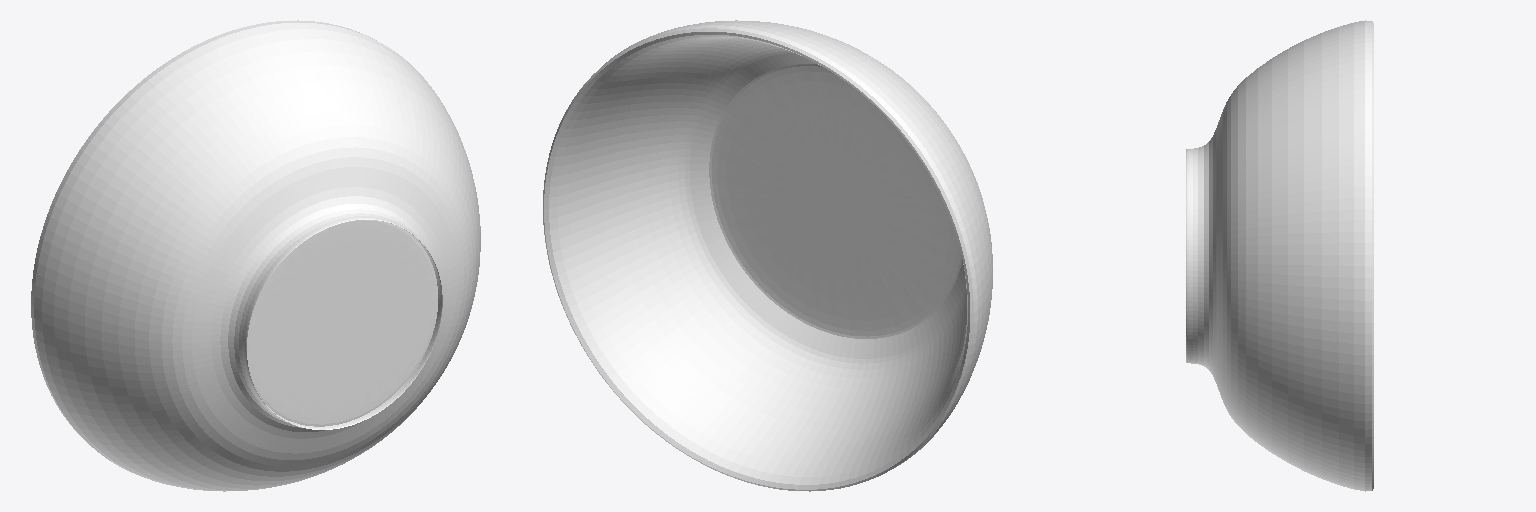
The robot description file, URDF, robot "bowl":
<?xml version="1.0" ?>
<robot name="bowl">
  <link concave="yes" name="baseLink">
    <contact>
      <lateral_friction value="1.0"/>
      <rolling_friction value="0.0"/>
      <contact_cfm value="0.0"/>
      <contact_erp value="1.0"/>
    </contact>
    <inertial>
      <origin rpy="0 0 0" xyz="0 0 0"/>
       <mass value="1.0"/>
       <inertia ixx="1" ixy="0" ixz="0" iyy="1" iyz="0" izz="1"/>
    </inertial>
    <visual>
      <origin rpy="0 0 0" xyz="0 0 0"/>
      <geometry>
				<mesh filename="Bowl.obj" scale="1 1 1"/>
      </geometry>
       <material name="blue">
        <color rgba="1 1 1 1"/>
      </material>
    </visual>
    <collision concave="yes">
      <origin rpy="0 0 0" xyz="0 0 0"/>
      <geometry>
	 	<mesh filename="Bowl.obj" scale="1 1 1"/>
      </geometry>
    </collision>
  </link>
</robot>

--- What the picture shows (computed from the rendered views, not written in the file) ---
3 views of the same robot in one strip: view 1: azimuth 30°, elevation 25°; view 2: azimuth 150°, elevation 25°; view 3: azimuth 270°, elevation 25° (orthographic).
Robot: bowl — 1 links, 0 joints (none); root link baseLink; default pose: every joint at zero.
Visible links, largest first — view 1: baseLink; view 2: baseLink; view 3: baseLink.
Link boxes in pixels (box(x1,y1,x2,y2)): baseLink: box(31, 20, 480, 491); baseLink: box(543, 20, 992, 491); baseLink: box(1186, 20, 1373, 491).
Bounding box of the posed robot: 3.76 × 1.51 × 3.76 m (x, y, z).
Meshes: 1 distinct files referenced, 1 mesh visuals loaded (1 OBJ).